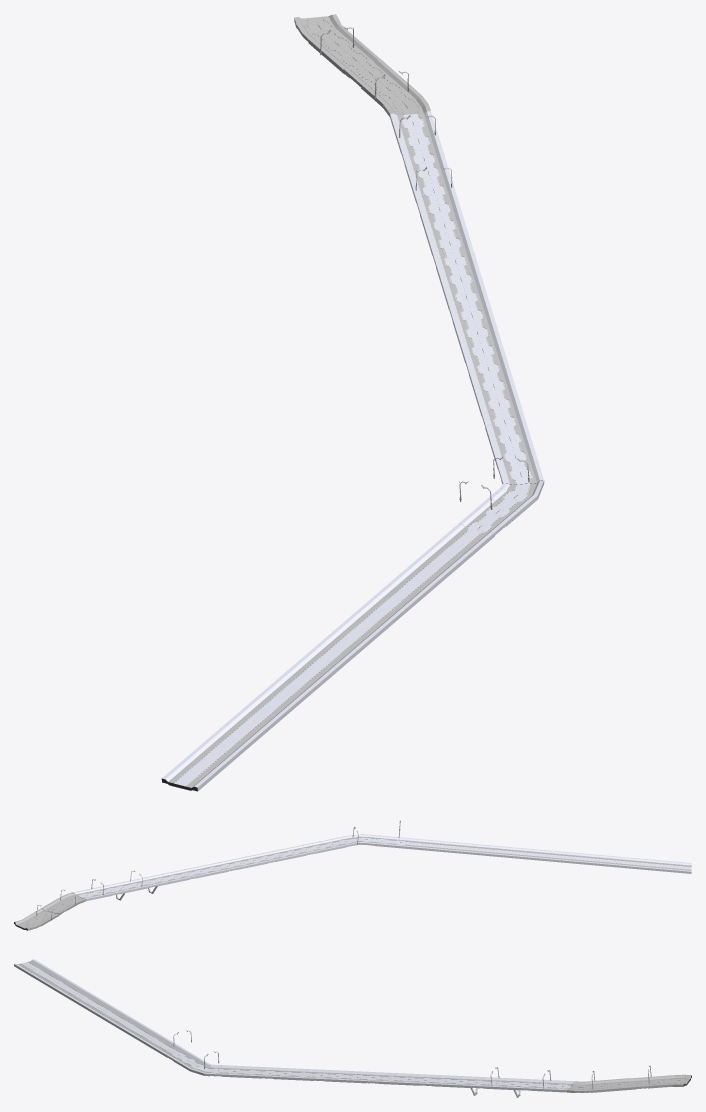
3 views of the same model, one above another, from view 1: azimuth 30°, elevation 25°; view 2: azimuth 150°, elevation 25°; view 3: azimuth 270°, elevation 25° (orthographic). The views are drawn at different scales.
Parts seen in each view (by area): view 1: KB3D_HTS_Road_H_Main_1_001_1.001, KB3D_HTS_Road_H_Main_001_002.002, KB3D_HTS_Road_H_Main_001_002_1.001, KB3D_HTS_Road_A_Main__2_, KB3D_HTS_Road_A_Main, KB3D_HTS_Road_A_Main__4_, KB3D_HTS_Road_A_Main__3_, KB3D_HTS_Road_A_Main__1_, KB3D_HTS_Road_A_Main__5_, KB3D_HTS_Road_A_Main.001; view 2: KB3D_HTS_Road_H_Main_1_001_1.001, KB3D_HTS_Road_H_Main_001_002.002, KB3D_HTS_Road_H_Main_001_002_1.001, KB3D_HTS_Road_A_Main__1_, KB3D_HTS_Road_A_Main__2_, KB3D_HTS_Road_A_Main__3_, KB3D_HTS_Road_A_Main__5_, KB3D_HTS_Road_A_Main__4_, KB3D_HTS_Road_A_Main, KB3D_HTS_Road_A_Main.001; view 3: KB3D_HTS_Road_H_Main_1_001_1.001, KB3D_HTS_Road_H_Main_001_002.002, KB3D_HTS_Road_H_Main_001_002_1.001, KB3D_HTS_Road_A_Main__2_, KB3D_HTS_Road_A_Main__4_, KB3D_HTS_Road_A_Main__1_, KB3D_HTS_Road_A_Main, KB3D_HTS_Road_A_Main__3_, KB3D_HTS_Road_A_Main__5_, KB3D_HTS_Road_A_Main.001.
Boxes of the visible parts, <box> form: KB3D_HTS_Road_H_Main_1_001_1.001: <box>161,480,544,791</box>; KB3D_HTS_Road_H_Main_001_002.002: <box>294,14,380,74</box>; KB3D_HTS_Road_H_Main_001_002_1.001: <box>343,59,430,116</box>; KB3D_HTS_Road_A_Main__2_: <box>438,267,495,326</box>; KB3D_HTS_Road_A_Main: <box>405,160,462,220</box>; KB3D_HTS_Road_A_Main__4_: <box>470,374,527,432</box>; KB3D_HTS_Road_A_Main__3_: <box>454,320,511,379</box>; KB3D_HTS_Road_A_Main__1_: <box>421,214,478,273</box>; KB3D_HTS_Road_A_Main__5_: <box>486,426,544,484</box>; KB3D_HTS_Road_A_Main.001: <box>390,111,445,169</box>; KB3D_HTS_Road_H_Main_1_001_1.001: <box>346,834,691,873</box>; KB3D_HTS_Road_H_Main_001_002.002: <box>14,908,59,930</box>; KB3D_HTS_Road_H_Main_001_002_1.001: <box>41,892,86,914</box>; KB3D_HTS_Road_A_Main__1_: <box>149,868,201,885</box>; KB3D_HTS_Road_A_Main__2_: <box>189,860,241,877</box>; KB3D_HTS_Road_A_Main__3_: <box>229,852,280,868</box>; KB3D_HTS_Road_A_Main__5_: <box>306,836,358,852</box>; KB3D_HTS_Road_A_Main__4_: <box>267,844,319,860</box>; KB3D_HTS_Road_A_Main: <box>110,877,162,893</box>; KB3D_HTS_Road_A_Main.001: <box>73,885,125,901</box>; KB3D_HTS_Road_H_Main_1_001_1.001: <box>14,959,211,1075</box>; KB3D_HTS_Road_H_Main_001_002.002: <box>629,1074,691,1089</box>; KB3D_HTS_Road_H_Main_001_002_1.001: <box>566,1078,629,1092</box>; KB3D_HTS_Road_A_Main__2_: <box>360,1072,420,1085</box>; KB3D_HTS_Road_A_Main__4_: <box>255,1067,315,1080</box>; KB3D_HTS_Road_A_Main__1_: <box>413,1074,473,1087</box>; KB3D_HTS_Road_A_Main: <box>465,1076,525,1090</box>; KB3D_HTS_Road_A_Main__3_: <box>308,1069,368,1082</box>; KB3D_HTS_Road_A_Main__5_: <box>204,1064,264,1078</box>; KB3D_HTS_Road_A_Main.001: <box>516,1079,574,1092</box>.
Bounding box in the file's own units: 33364 × 6971 × 46552.
